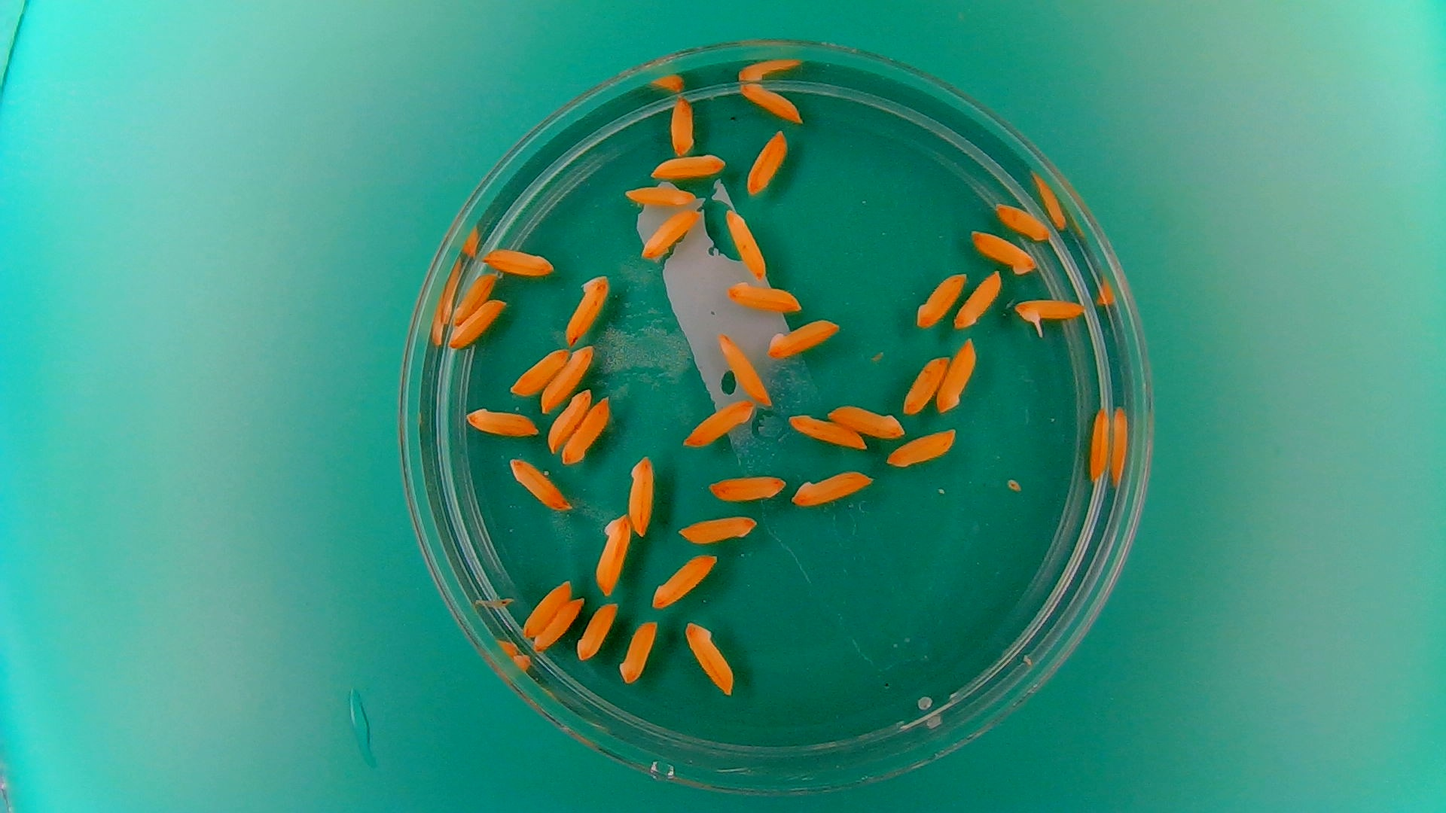no: (682, 617, 737, 697), (715, 330, 772, 407), (632, 205, 702, 266), (679, 397, 757, 449), (650, 552, 718, 610), (539, 343, 595, 413), (560, 391, 612, 465), (790, 467, 876, 510), (507, 455, 571, 510), (563, 273, 611, 346), (968, 227, 1038, 276), (766, 315, 842, 360), (593, 510, 632, 597), (724, 207, 769, 282), (508, 344, 570, 397), (935, 335, 977, 413), (952, 266, 1002, 331), (786, 412, 868, 451), (546, 385, 592, 454), (884, 428, 959, 470), (532, 595, 586, 653), (914, 270, 968, 328), (449, 296, 508, 349), (520, 577, 572, 637), (825, 401, 907, 439), (745, 126, 789, 196), (737, 78, 805, 123), (901, 352, 949, 414), (616, 617, 659, 684), (704, 469, 788, 503), (463, 404, 541, 439), (575, 600, 619, 662), (722, 279, 802, 313), (626, 452, 657, 538), (676, 513, 758, 545), (450, 272, 498, 326), (993, 199, 1054, 241), (646, 151, 727, 181), (480, 244, 555, 276), (1084, 403, 1111, 484), (622, 181, 699, 209), (666, 93, 696, 157)
yes: (1012, 293, 1086, 332)
